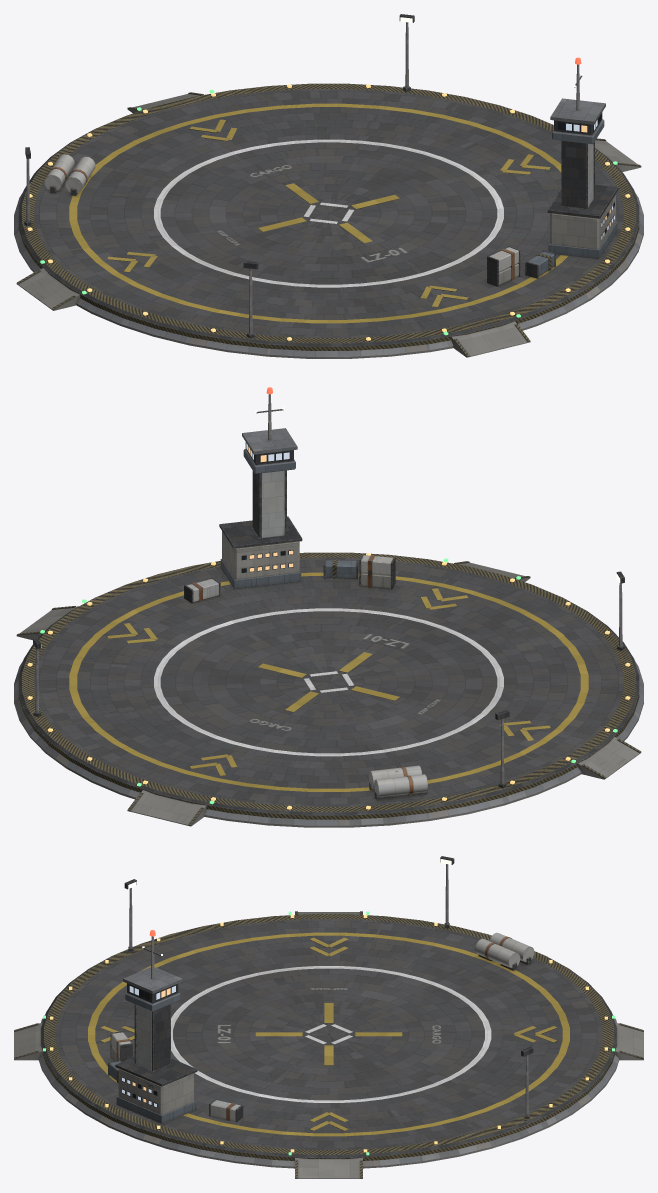
File: landing_pad.glb
The picture shows the model from 3 angles, top to bottom: view 1: azimuth 30°, elevation 25°; view 2: azimuth 150°, elevation 25°; view 3: azimuth 270°, elevation 25°; orthographic projection. The views are drawn at different scales.
Visible parts, largest first — view 1: landing_pad_hull, landing_pad_lights; view 2: landing_pad_hull, landing_pad_lights; view 3: landing_pad_hull, landing_pad_lights.
Part boxes in pixels (x1,y1,x2,y2): landing_pad_hull: (14, 14, 643, 358); landing_pad_lights: (27, 17, 630, 340); landing_pad_hull: (14, 394, 643, 827); landing_pad_lights: (27, 387, 630, 809); landing_pad_hull: (14, 856, 643, 1178); landing_pad_lights: (43, 859, 614, 1155).
Bounding box in the file's own units: 120 × 38.85 × 120.
Materials: 8 (1 with a texture image).
